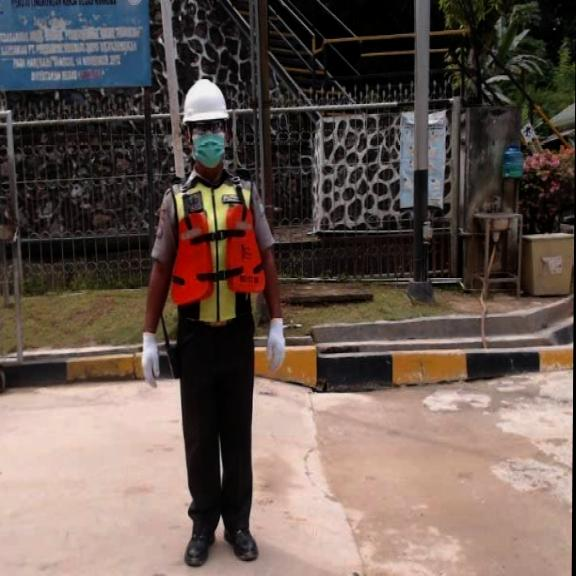safety_vest: (167, 203, 264, 305)
